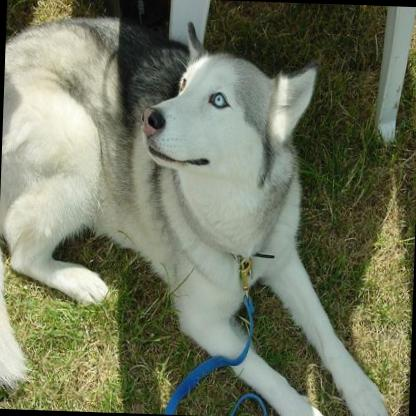Eskimo_dog: (0, 12, 404, 416)
